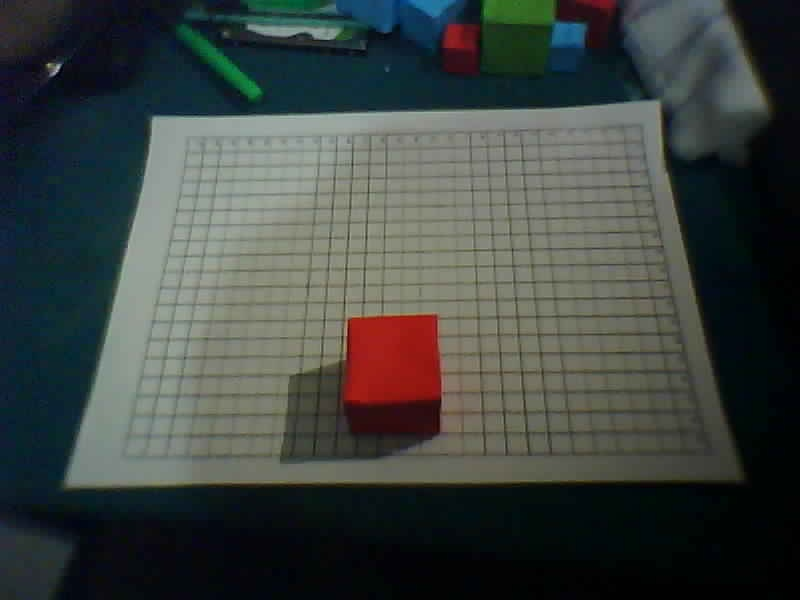LB: (117, 454, 125, 460)
LT: (183, 133, 191, 139)
RB: (707, 452, 715, 458)
RT: (637, 122, 645, 128)
